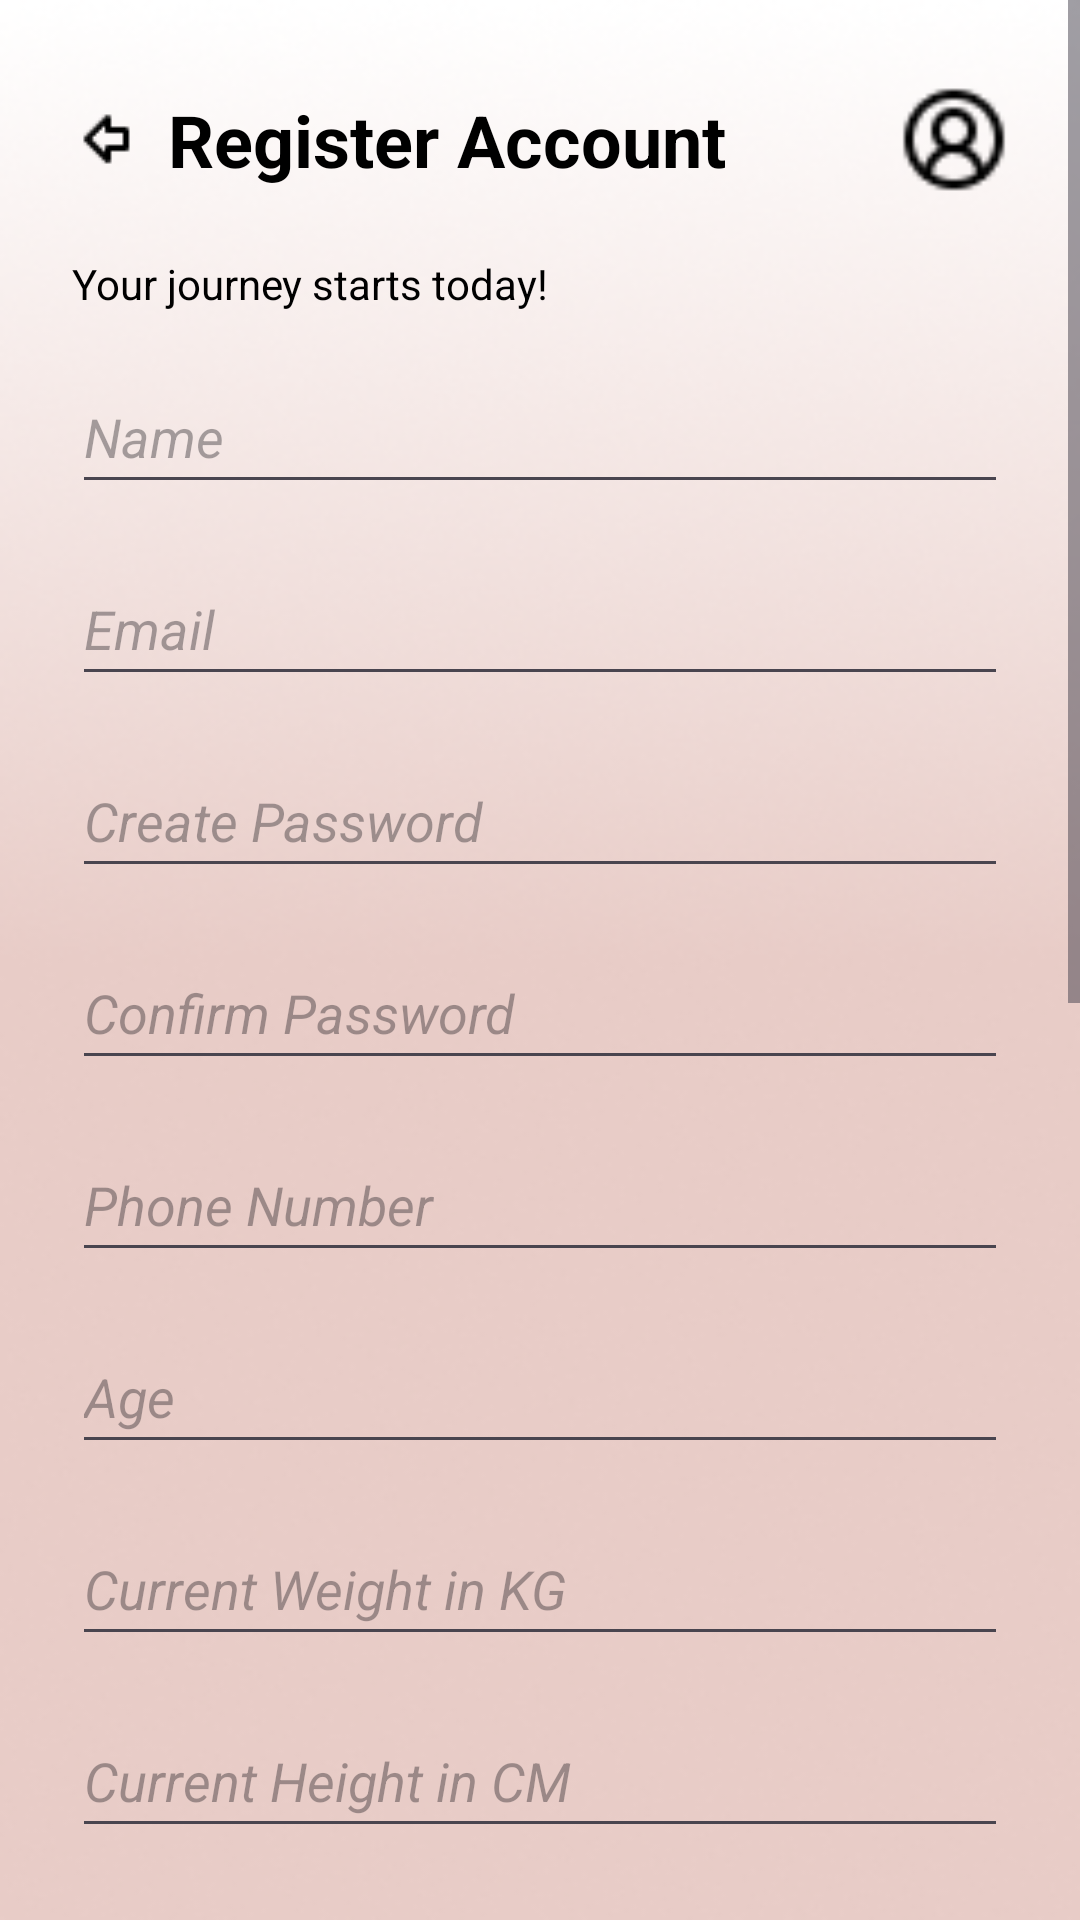

Icons on this 1080px x 1920px Android screen, each with the point to tap as [x,y]:
arrow left: [106,139]
circle user round: [954,139]
